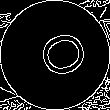O_W: (24, 26, 86, 84)
